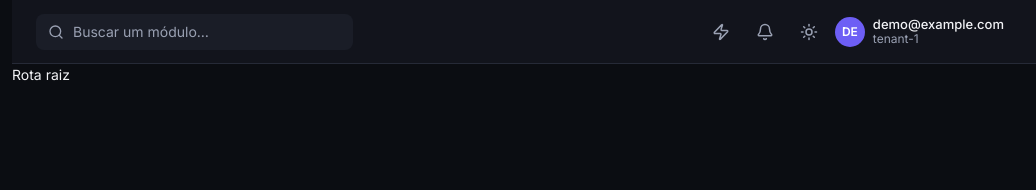
Scenario: Topbar — pesquisa global, notificações e perfil (UX-001) › o menu de Perfil exibe a Identity autenticada e um botão de logout real
Expected: the text "demo@example.com" is shown, [873,16,1004,32]
Step 1. Click the button with aria-label "Menu de perfil" → (923, 32), box [835,14,1012,50]
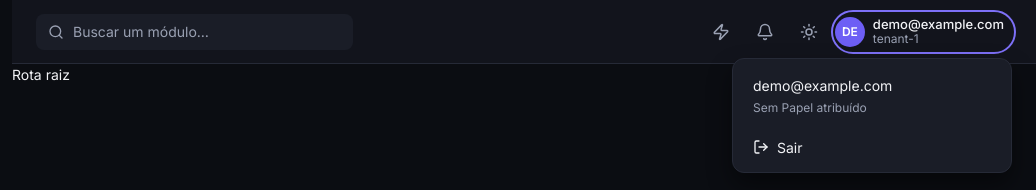
Result: the button "Sair" is shown at [741,130,1003,164]
